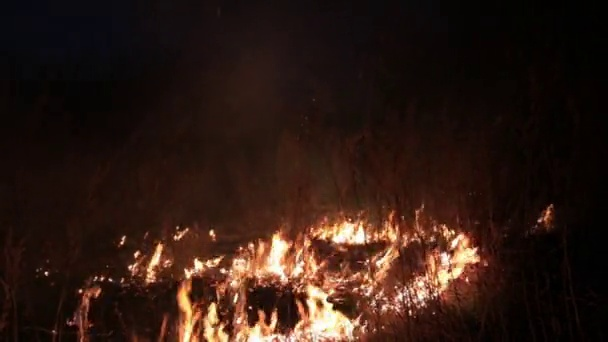fire: (378, 223, 479, 313), (222, 226, 317, 286), (178, 295, 286, 342), (289, 288, 366, 342), (317, 214, 401, 243), (144, 242, 164, 281), (183, 255, 205, 277)
